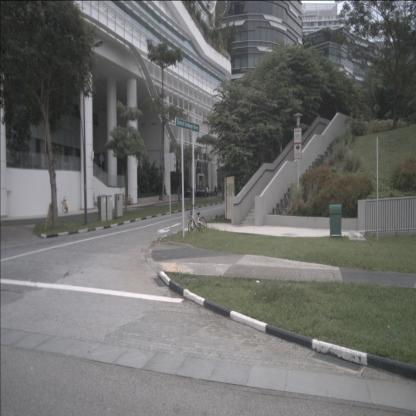human-pedestrian-adult: (213, 185, 217, 195), (178, 184, 180, 202), (186, 185, 189, 197), (205, 185, 208, 196), (188, 186, 191, 196), (216, 187, 219, 196), (200, 180, 202, 190)
vehicle-bicycle: (187, 204, 208, 235), (61, 195, 69, 214), (92, 194, 100, 210)
